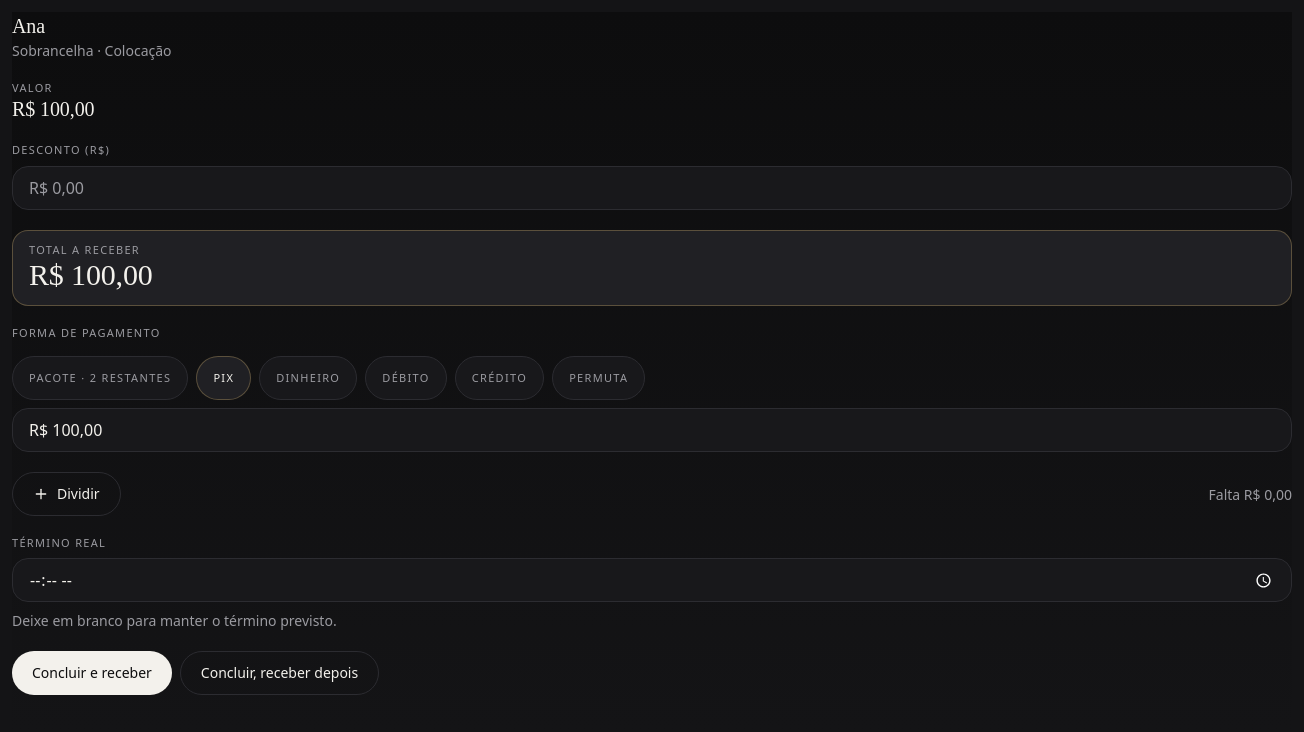
Test: Payment sheet, package mode › the FIRST chip is "PACOTE · X restantes"; selecting it hides discount and payment lines
Click the button "PACOTE · 2 restantes" at (100, 378), box [12,356,188,400]
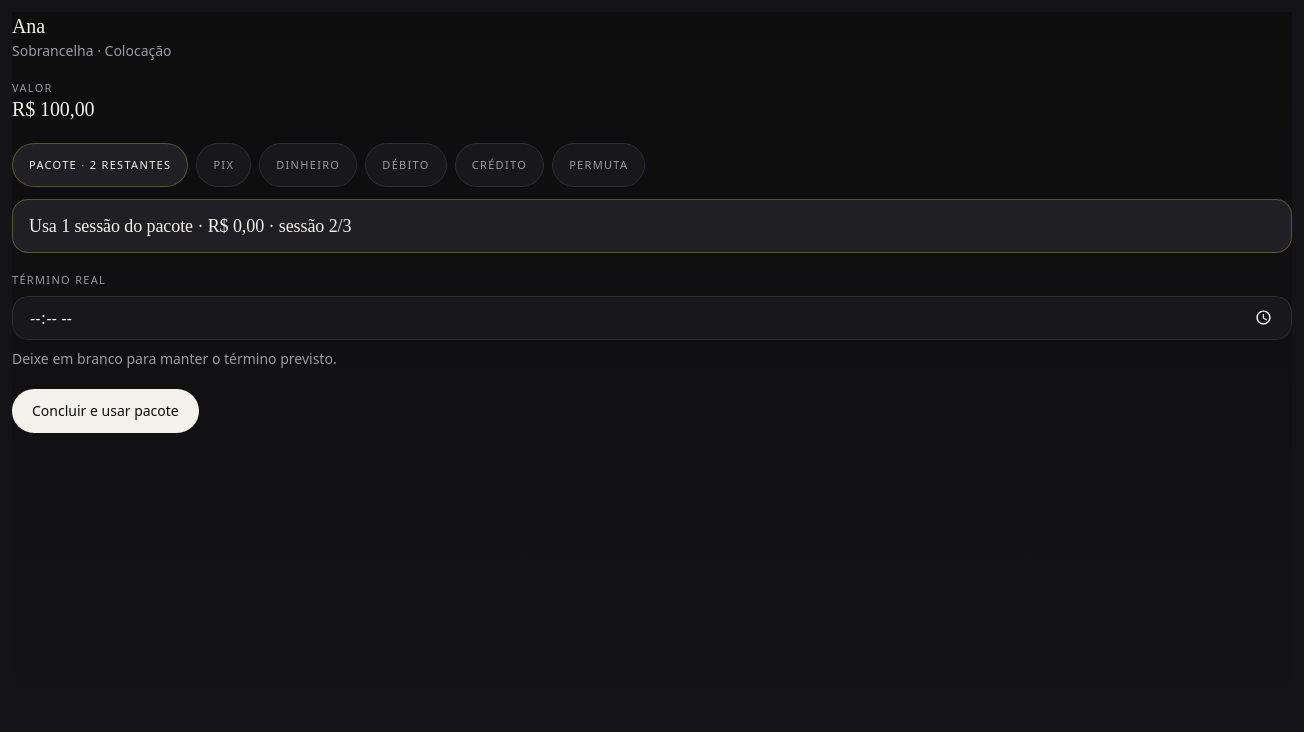
Result: the label labelled "Desconto (R$)" is gone
Result: the text "Total a receber" is gone
Result: the button "Dividir" is gone
